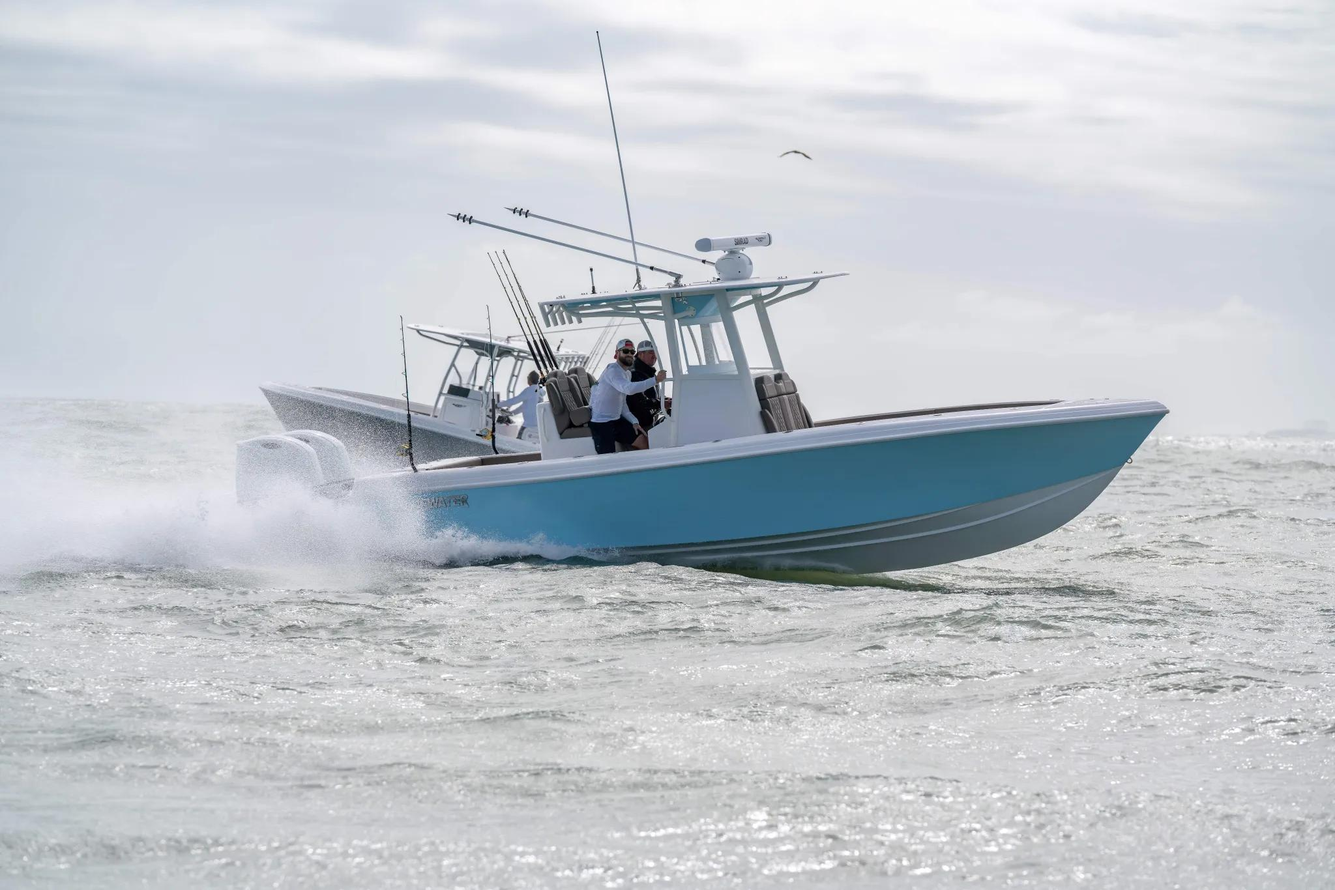fishing boat: (229, 25, 1176, 581)
